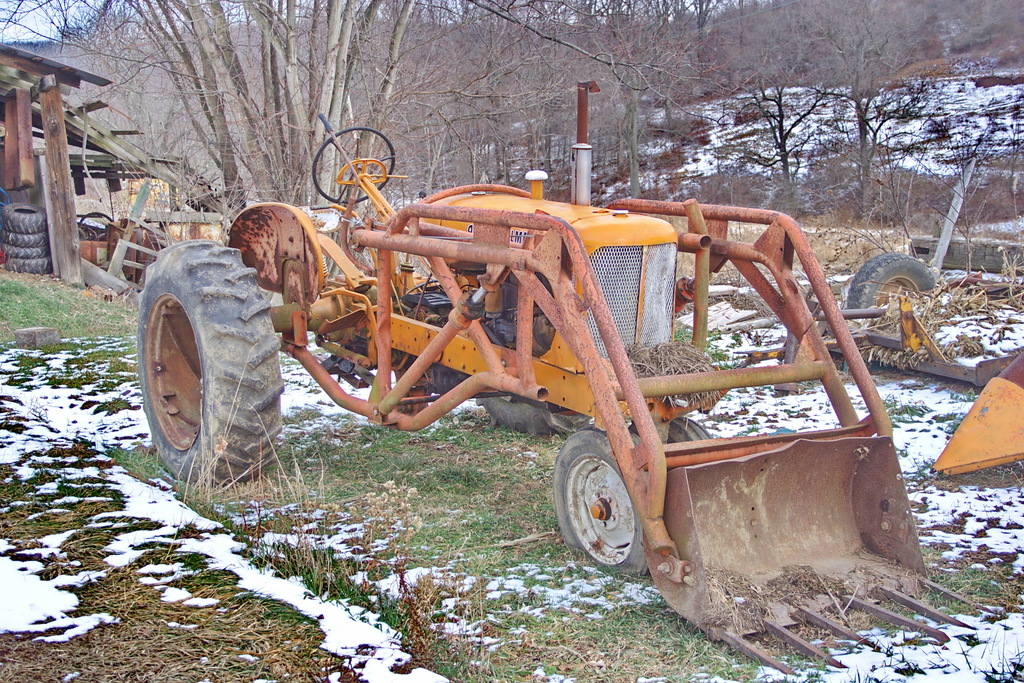Tree: (0, 0, 1024, 222)
